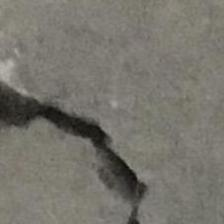Crack: (0, 37, 191, 224)
